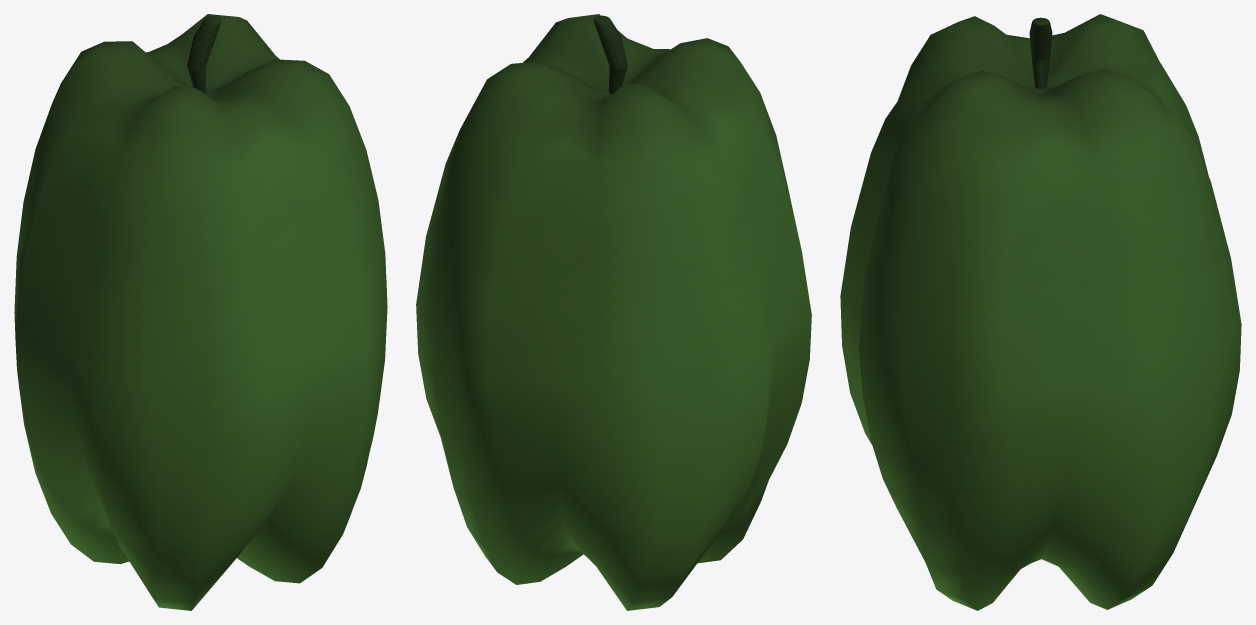
Rendered from greenpepper.fbx.
3 views of the same model, side by side, from view 1: azimuth 30°, elevation 25°; view 2: azimuth 150°, elevation 25°; view 3: azimuth 270°, elevation 25° (orthographic). The views are drawn at different scales.
Visible parts, largest first — view 1: apple:apple:pCylinder5; view 2: apple:apple:pCylinder5; view 3: apple:apple:pCylinder5.
Part boxes in pixels (left/top/right/bottom): apple:apple:pCylinder5: left=14, top=14, right=387, bottom=610; apple:apple:pCylinder5: left=416, top=14, right=811, bottom=610; apple:apple:pCylinder5: left=840, top=14, right=1241, bottom=610.
Size of the model in its own units: 1.82 by 2.8 by 1.82.
